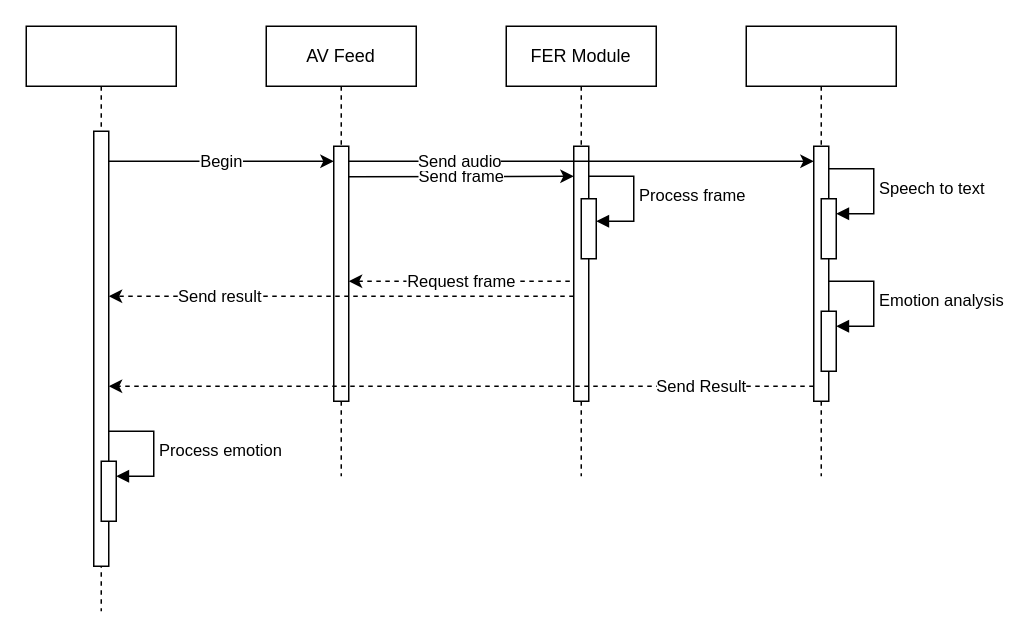
The diagram is 1031 pixels wide and 638 high, and some of its shapes have lost their labels. Here are the shapes that lost their labels. From the top down, the box of each, then its label:
(745, 25, 896, 476): NLP Module
(25, 25, 176, 611): Analysis
